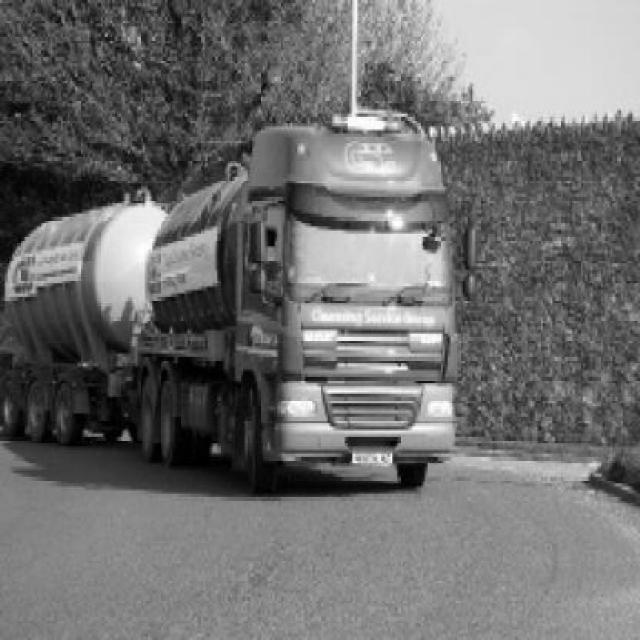Box Truck: (0, 110, 461, 496)
